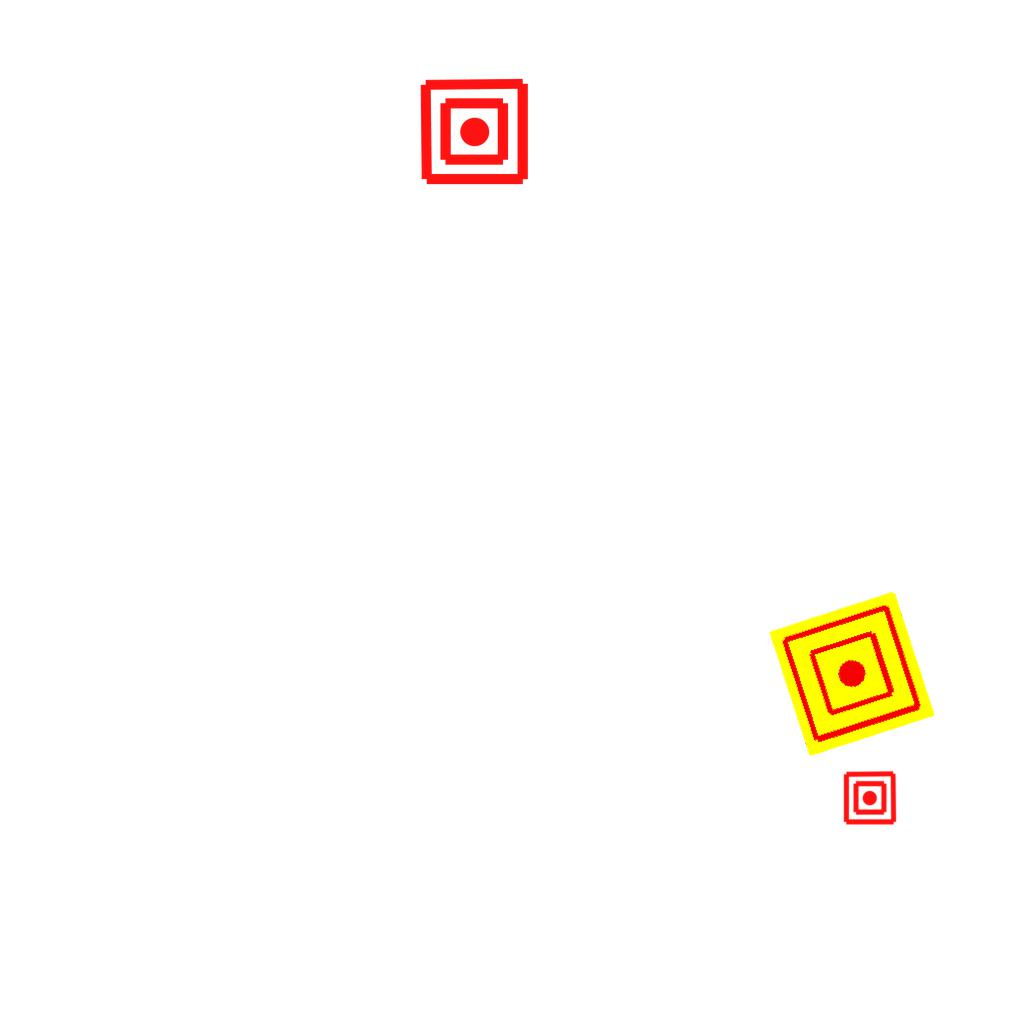NAM-Nichtautomatischer_Melder: (768, 590, 936, 758), (418, 75, 531, 188), (842, 770, 898, 826)
